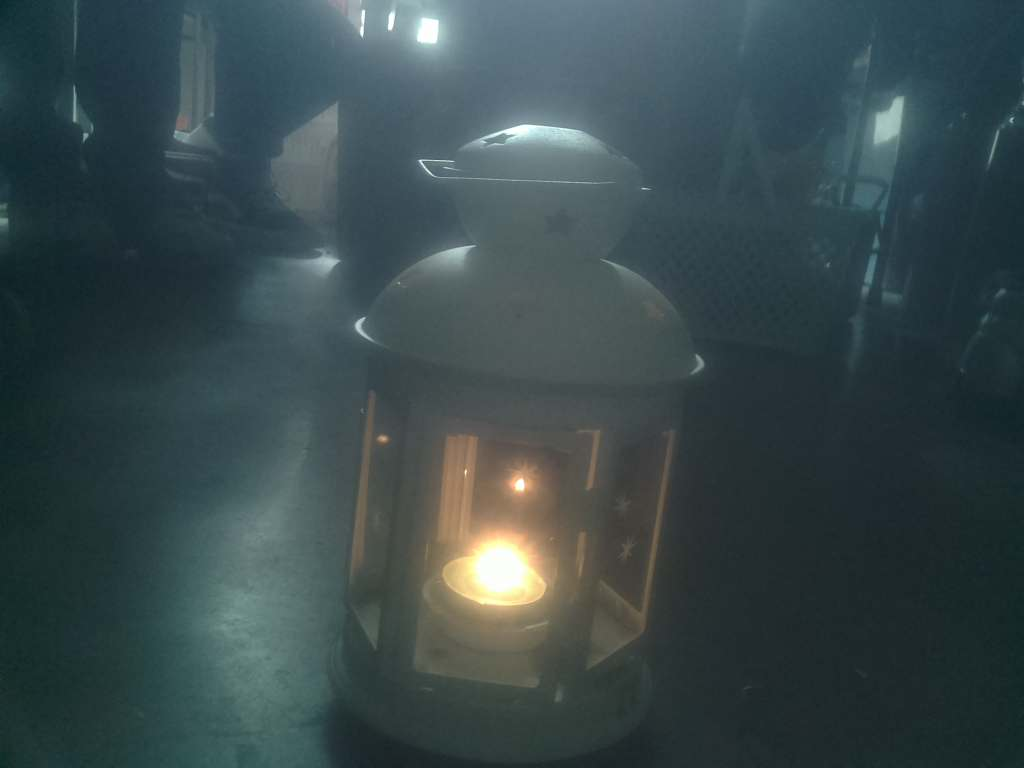fire: (442, 525, 552, 638)
